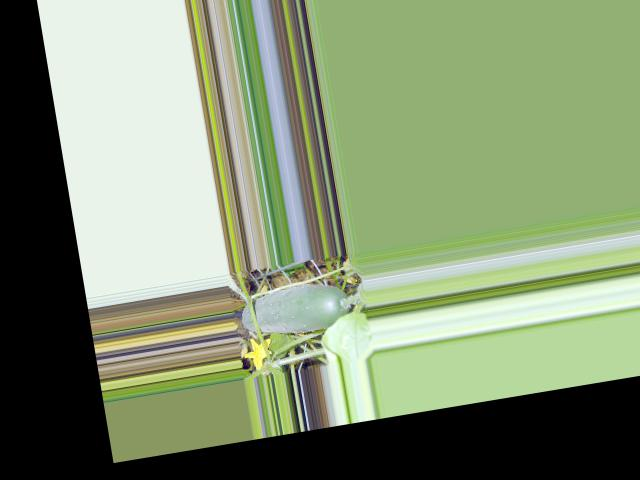cucumber: (239, 277, 354, 341)
